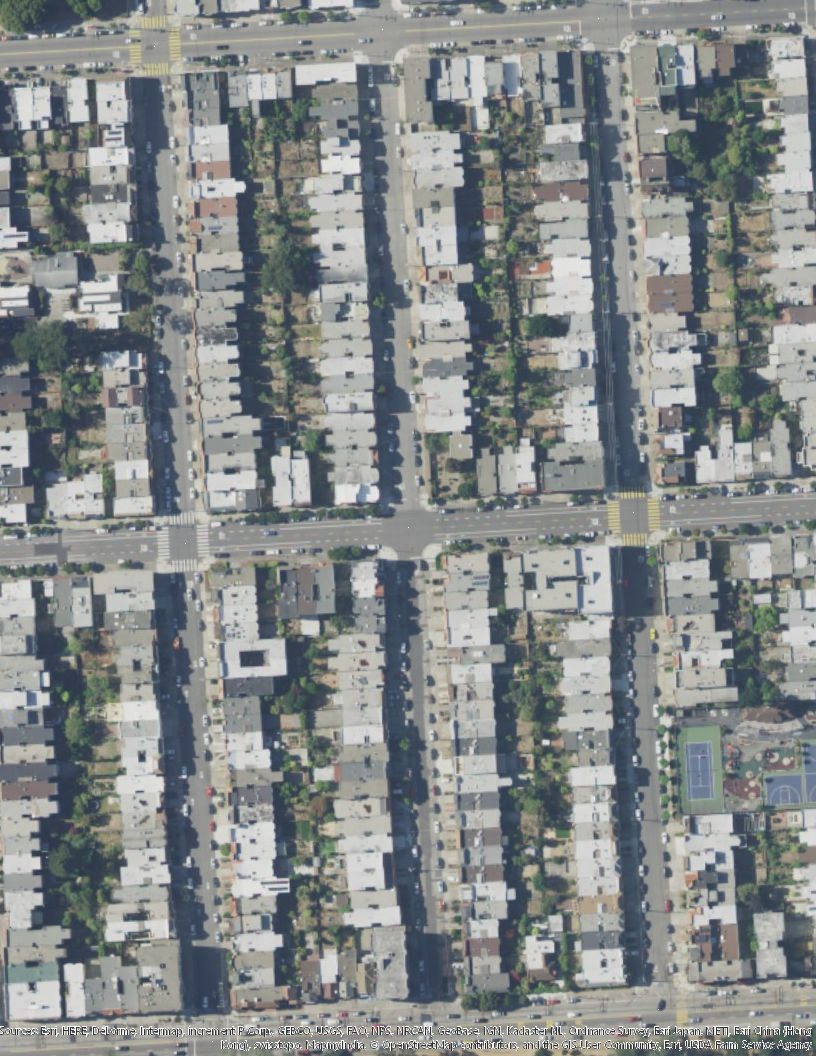zebracross: (195, 524, 210, 558), (129, 29, 143, 65), (646, 498, 660, 533), (606, 501, 621, 533), (169, 28, 181, 64), (143, 13, 169, 29), (156, 530, 170, 559), (143, 62, 168, 77), (173, 559, 198, 573), (621, 486, 645, 499), (623, 532, 645, 546), (171, 512, 194, 525), (678, 1009, 690, 1024)
